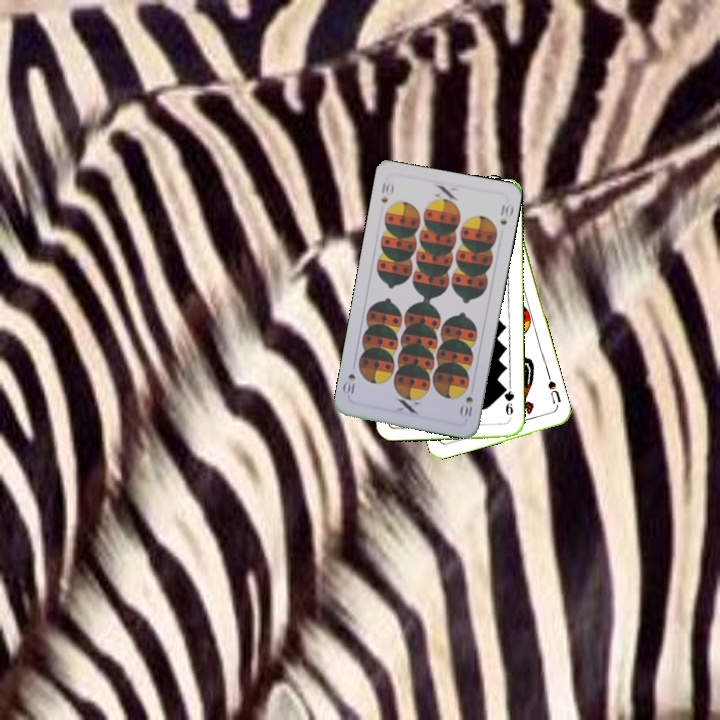G9: (500, 382, 516, 423)
S10: (457, 392, 476, 420), (377, 178, 396, 205)
SU: (543, 371, 563, 406)
